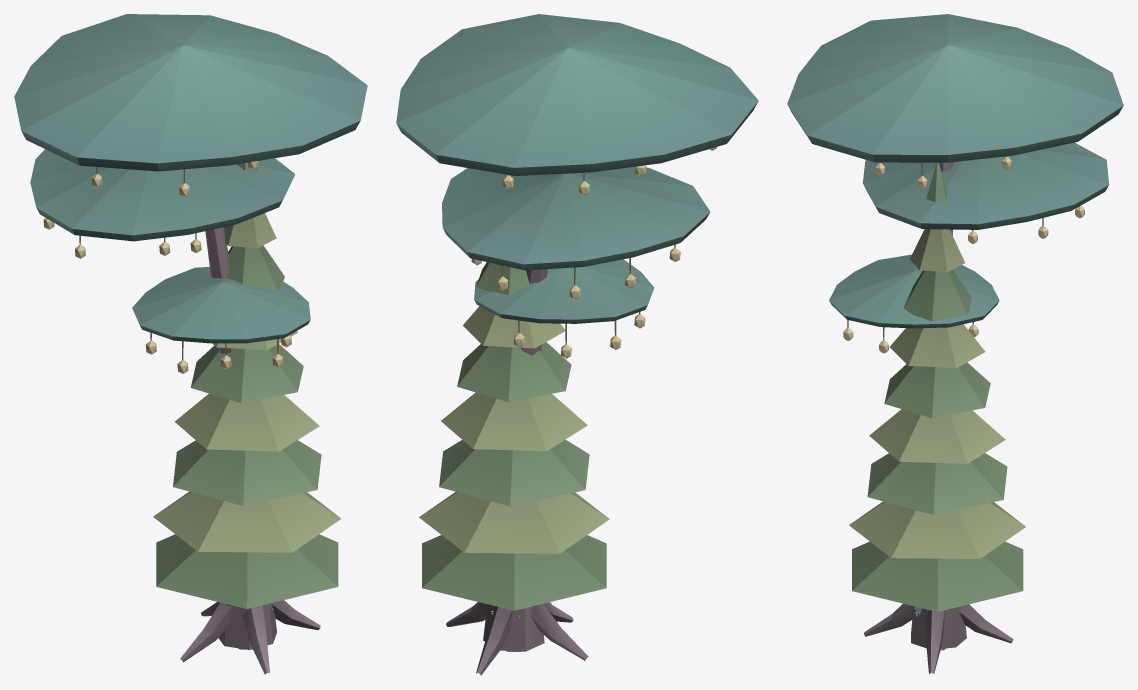
Rendered from moon.glb.
3 views of the same model, side by side, from view 1: azimuth 30°, elevation 25°; view 2: azimuth 150°, elevation 25°; view 3: azimuth 270°, elevation 25° (orthographic). The views are drawn at different scales.
Parts seen in each view (by area): view 1: umbrella_cap, spire, umbrella_wood, umbrella_pods; view 2: umbrella_cap, spire, umbrella_wood, umbrella_pods; view 3: umbrella_cap, spire, umbrella_wood, umbrella_pods.
Part boxes in pixels (x1=…): umbrella_cap: x1=14, y1=14, x2=367, y2=343; spire: x1=153, y1=162, x2=341, y2=649; umbrella_wood: x1=180, y1=227, x2=320, y2=674; umbrella_pods: x1=43, y1=161, x2=291, y2=373; umbrella_cap: x1=396, y1=14, x2=758, y2=323; spire: x1=419, y1=262, x2=609, y2=651; umbrella_wood: x1=446, y1=269, x2=588, y2=675; umbrella_pods: x1=471, y1=147, x2=716, y2=358; umbrella_cap: x1=787, y1=14, x2=1123, y2=328; spire: x1=849, y1=162, x2=1025, y2=650; umbrella_wood: x1=864, y1=162, x2=1013, y2=673; umbrella_pods: x1=843, y1=156, x2=1084, y2=353.
Size of the model in its own units: 12.66 by 23.66 by 12.59.
